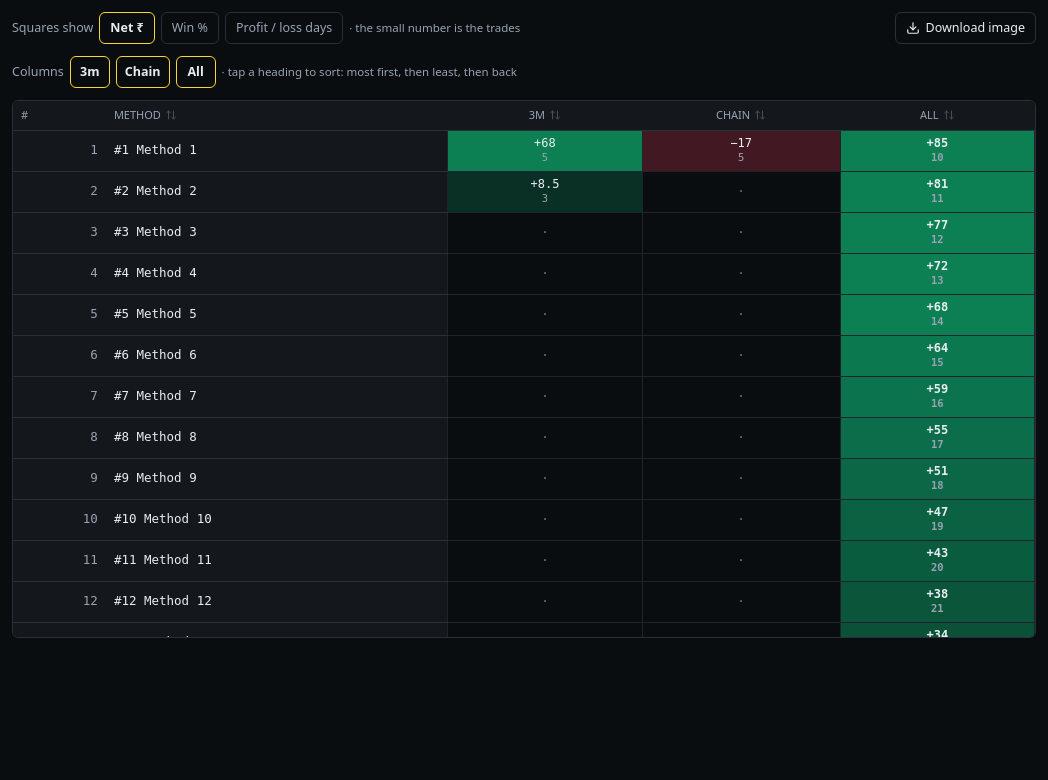
the method × timeframe grid as a picture › [critical] every row, ranked as shown, the columns as on screen, each square as it says -- and the range and rules under the title
Click the button "Download image" at (965, 28), box [895,12,1036,44]
(page scrolled)
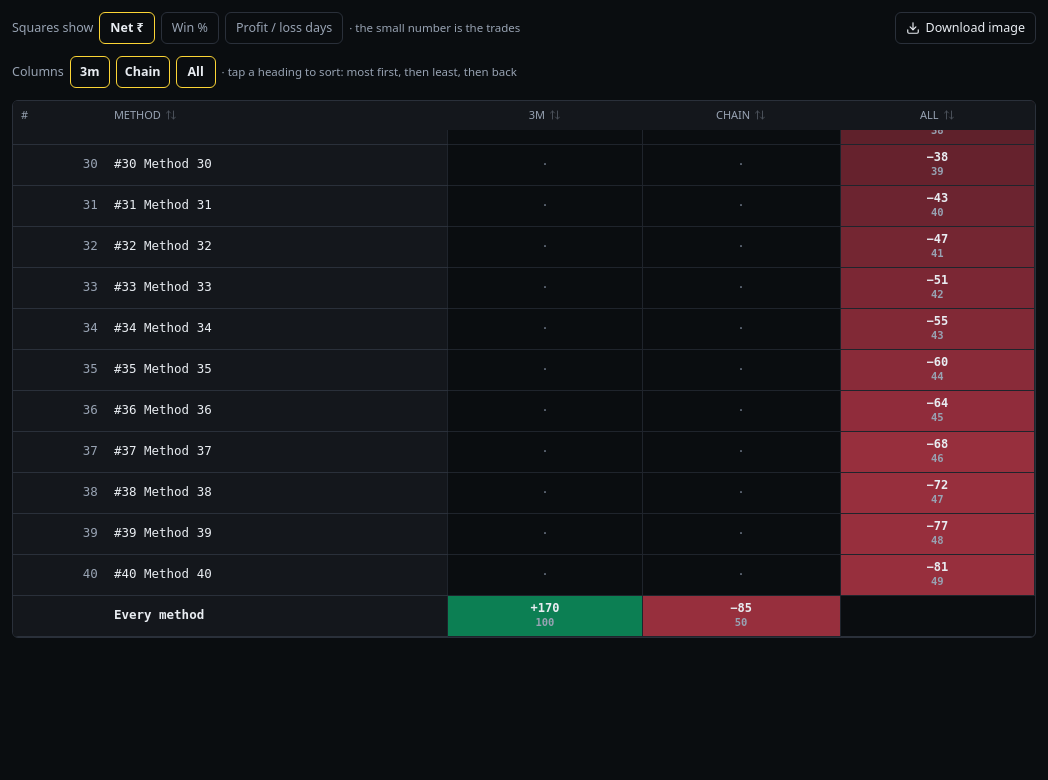
Now the cell "Every method" is shown, box [106,595,448,636]
